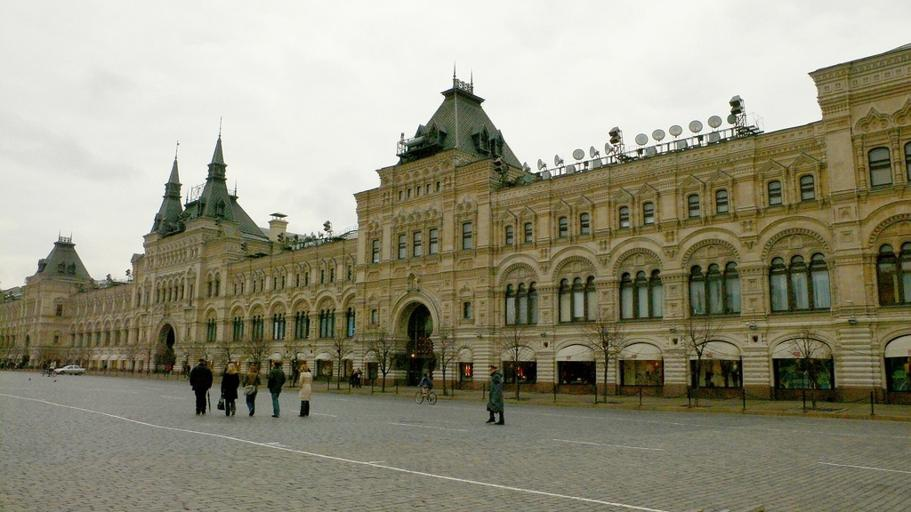non-vehicle: (413, 384, 438, 405), (42, 367, 56, 376)
